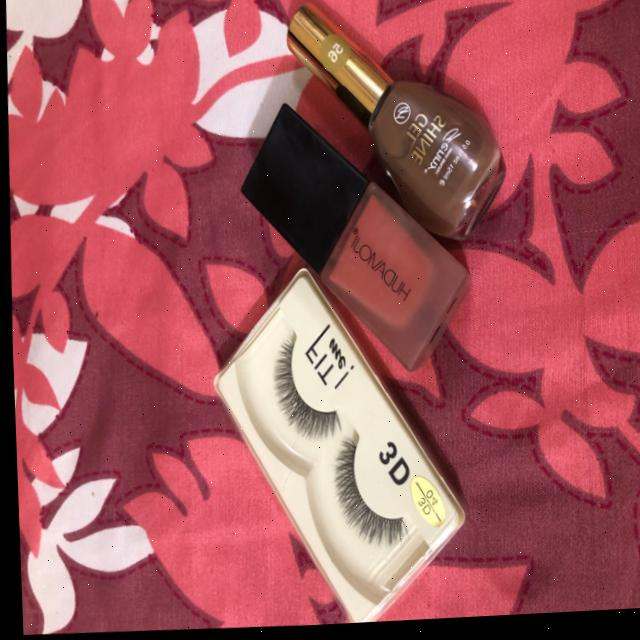lip shade: (224, 103, 459, 387)
nail polish: (246, 0, 515, 279)
